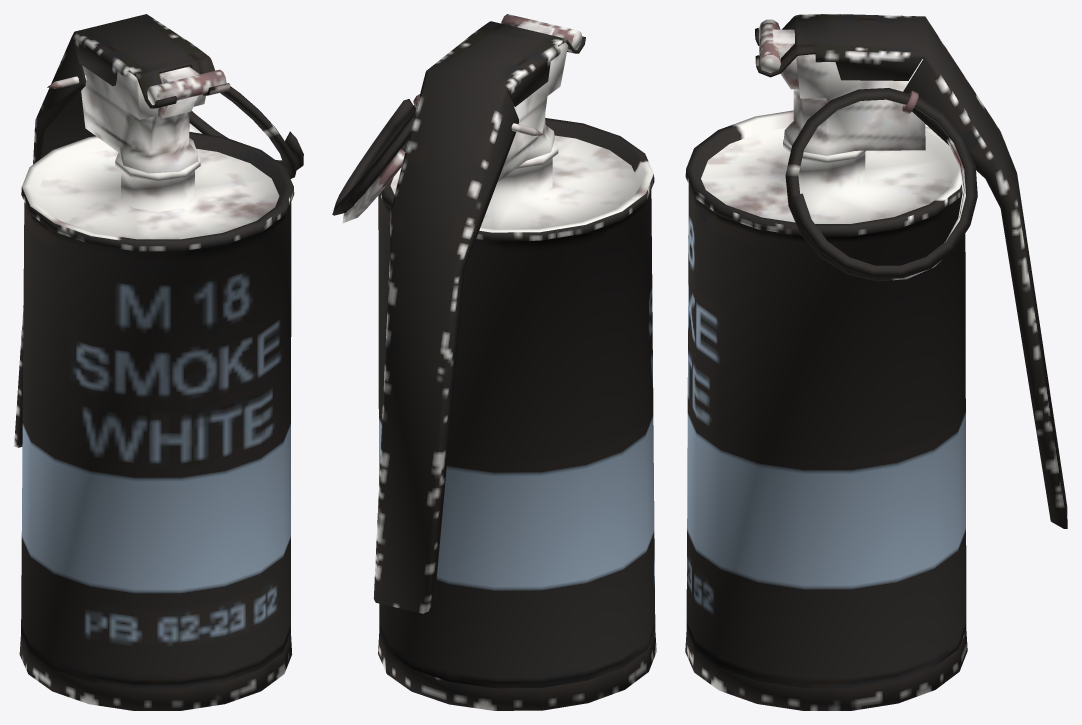
File: Weapons_Grenades_SmokeGrenade_3P_LOD0.glb
3 views of the same model, side by side, from view 1: azimuth 30°, elevation 25°; view 2: azimuth 150°, elevation 25°; view 3: azimuth 270°, elevation 25° (orthographic). The views are drawn at different scales.
Parts seen in each view (by area): view 1: Hoodie; view 2: Hoodie; view 3: Hoodie.
Part boxes in pixels (x1,y1,x2,y2): Hoodie: (14, 14, 303, 710); Hoodie: (332, 14, 656, 710); Hoodie: (685, 14, 1067, 710).
Bounding box in the file's own units: 0.0624 × 0.1354 × 0.0756.
Materials: 1 (1 with a texture image).
